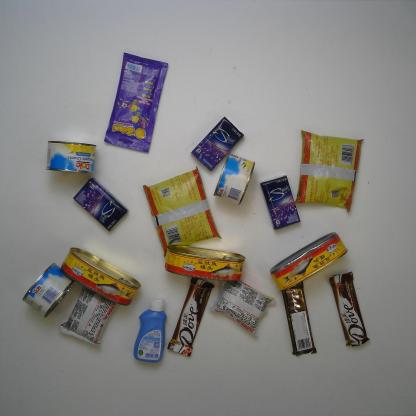Candy: (104, 52, 168, 152)
Canned Food: (61, 247, 141, 305), (270, 232, 348, 290), (164, 244, 245, 282), (23, 262, 75, 318), (214, 153, 255, 204), (46, 140, 96, 174)
Chocolate: (166, 277, 215, 357), (329, 271, 369, 347), (280, 278, 318, 356)
Dessert: (208, 272, 277, 338), (58, 282, 123, 346)
Gum: (190, 116, 244, 171), (73, 179, 128, 231), (259, 175, 301, 229)
Personal Hygiene: (132, 299, 166, 361)
Seasoner: (143, 166, 221, 256), (295, 129, 364, 212)
